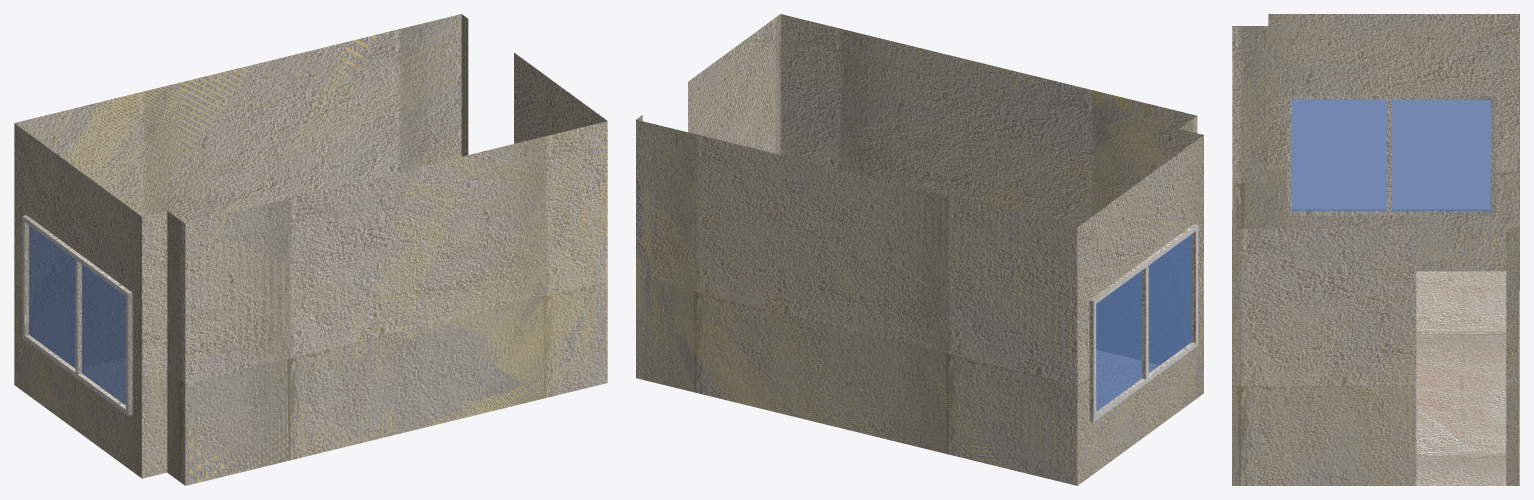
Rendered from DES043.obj.
The picture shows the model from 3 angles, left to right: view 1: azimuth 30°, elevation 25°; view 2: azimuth 150°, elevation 25°; view 3: azimuth 270°, elevation 25°; orthographic projection.
Parts seen in each view (by area): view 1: Mesh6 DES043 Model, Mesh1 ventana2_1 DES043 Model; view 2: Mesh6 DES043 Model, Mesh1 ventana2_1 DES043 Model; view 3: Mesh6 DES043 Model, Mesh1 ventana2_1 DES043 Model.
Boxes of the visible parts, left/top/right/bottom form: Mesh6 DES043 Model: left=14, top=14, right=607, bottom=485; Mesh1 ventana2_1 DES043 Model: left=22, top=215, right=132, bottom=415; Mesh6 DES043 Model: left=636, top=14, right=1203, bottom=485; Mesh1 ventana2_1 DES043 Model: left=1089, top=224, right=1198, bottom=421; Mesh6 DES043 Model: left=1232, top=14, right=1519, bottom=485; Mesh1 ventana2_1 DES043 Model: left=1287, top=95, right=1495, bottom=215.
Size of the model in its own units: 5.41 by 3 by 3.04.
6 materials, 2 textured.
